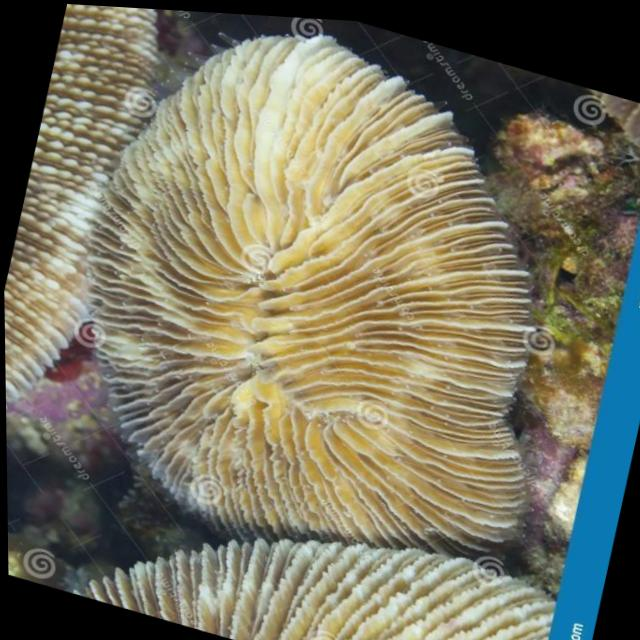Healthy Coral: (23, 1, 588, 614), (67, 444, 547, 640), (0, 0, 167, 457)
